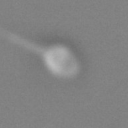normal: (1, 23, 43, 55)
